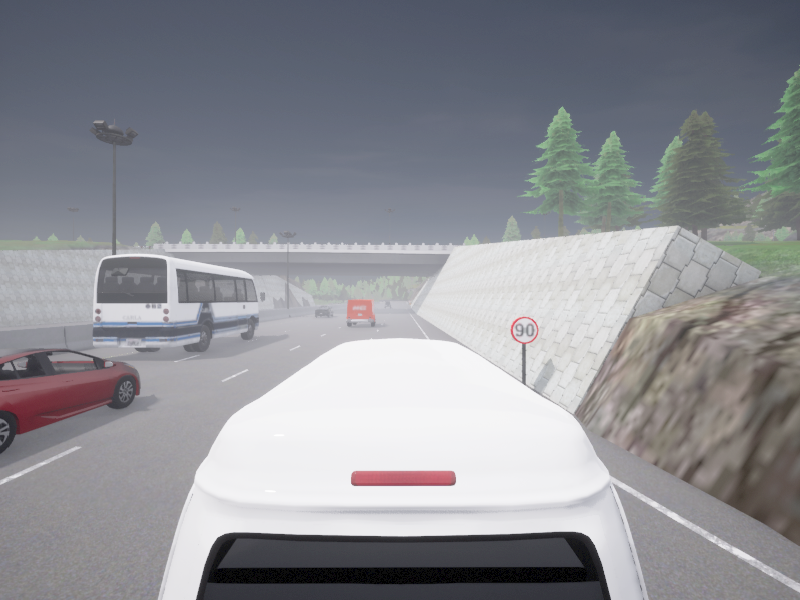vehicle: (158, 338, 648, 599), (93, 254, 264, 351), (0, 348, 140, 453), (346, 299, 376, 326), (315, 306, 333, 317), (385, 302, 390, 307)
